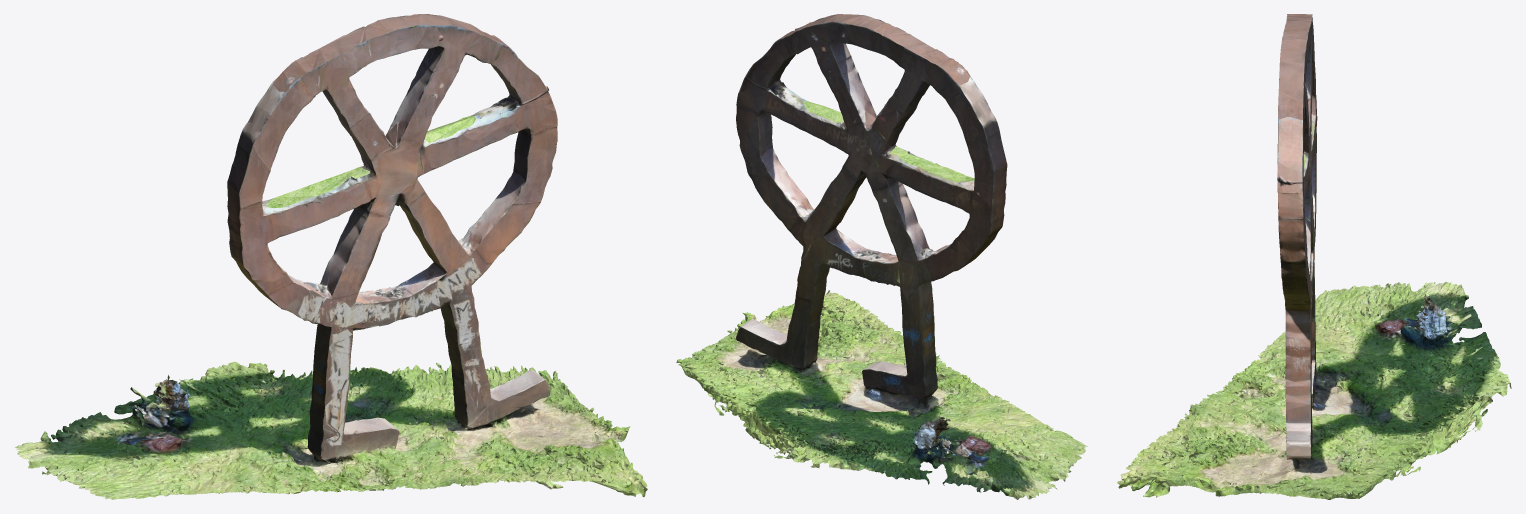
3 views of the same model, side by side, from view 1: azimuth 30°, elevation 25°; view 2: azimuth 150°, elevation 25°; view 3: azimuth 270°, elevation 25° (orthographic). The views are drawn at different scales.
Parts seen in each view (by area): view 1: 1k.25k; view 2: 1k.25k; view 3: 1k.25k.
Boxes of the visible parts, box(x1,y1,x2,y2) form: 1k.25k: box(14, 14, 647, 499); 1k.25k: box(676, 14, 1087, 499); 1k.25k: box(1117, 14, 1511, 499).
Size of the model in its own units: 3.2 by 2.76 by 2.51.
1 material, 1 textured.
